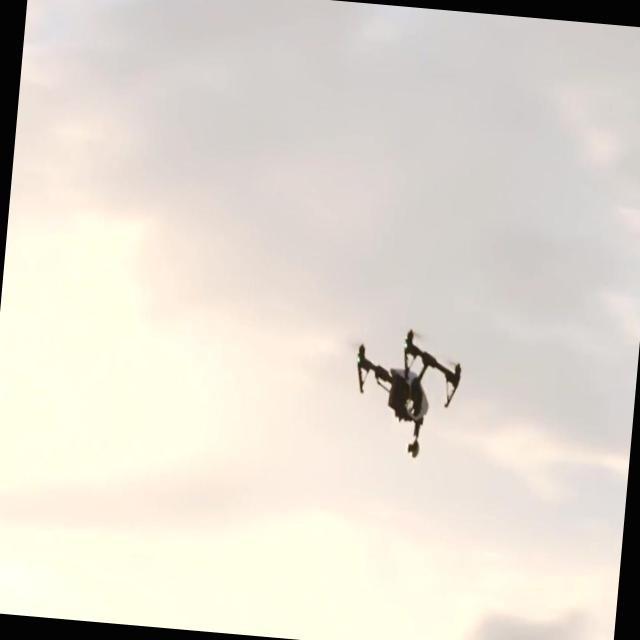drone: (346, 321, 465, 463)
